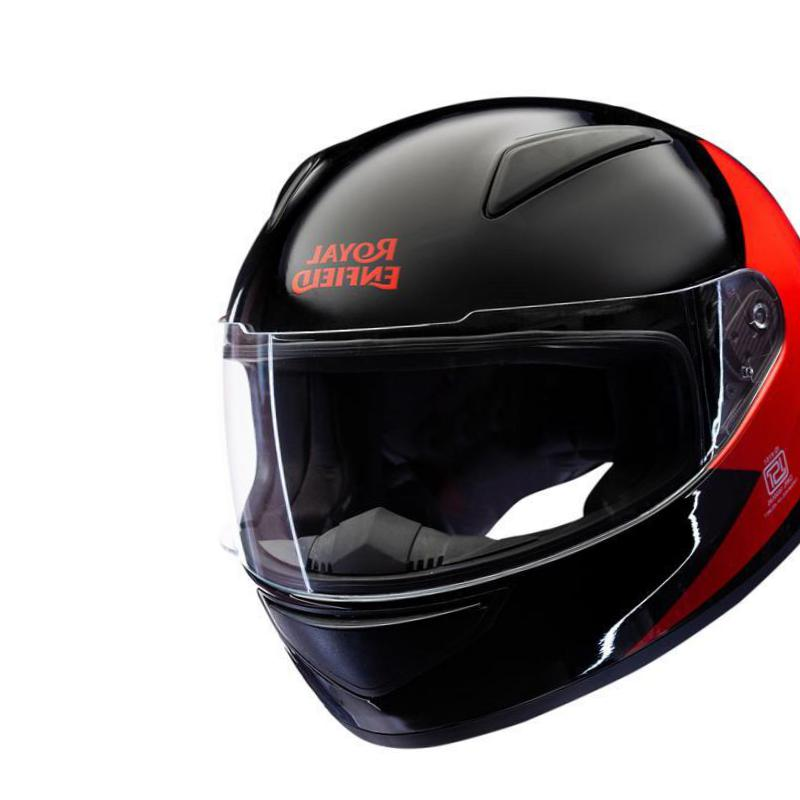helmet: (202, 87, 800, 749)
